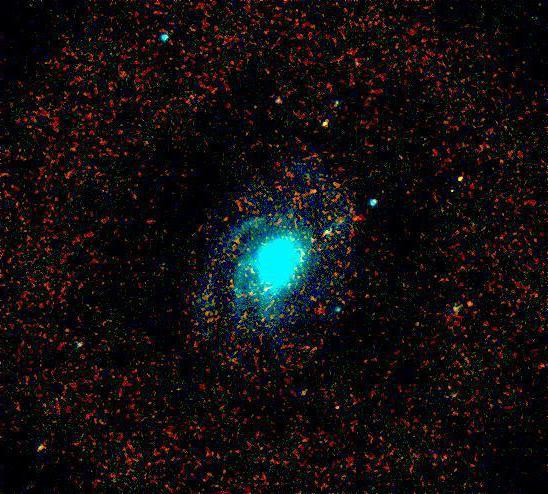star: (458, 287, 488, 317)
